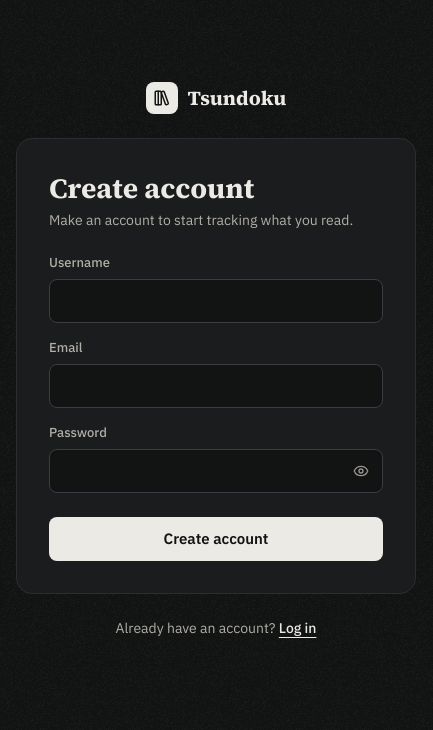
Test: RegisterPage › maps username conflict to the username field
The image size is (433, 730).
Type "reader" into the field labelled "Username".
click(216, 301); type("reader")  # box [49,279,383,323]
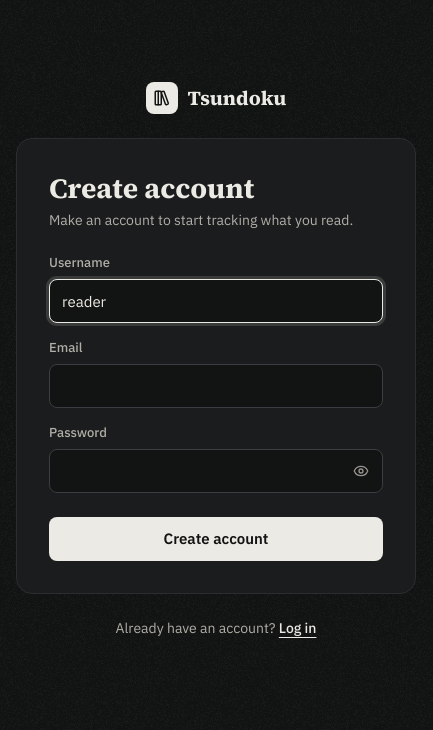
Type "reader@example.com" into the field labelled "Email".
click(216, 386); type("reader@example.com")  # box [49,364,383,408]
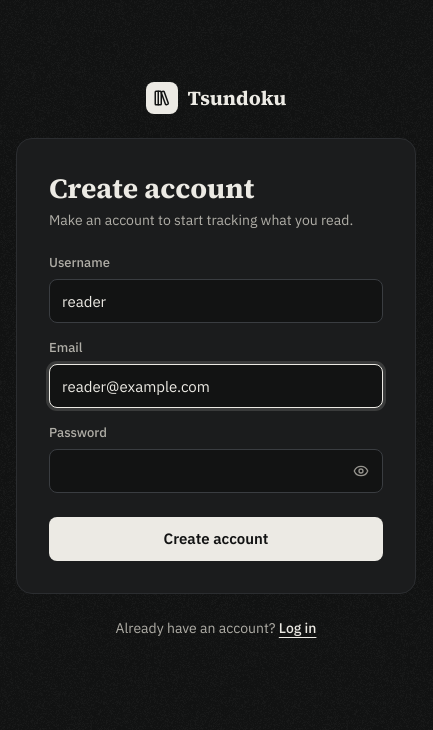
Type "Password123!" into the password field labelled "Password".
click(216, 471); type("Password123!")  # box [49,449,383,493]
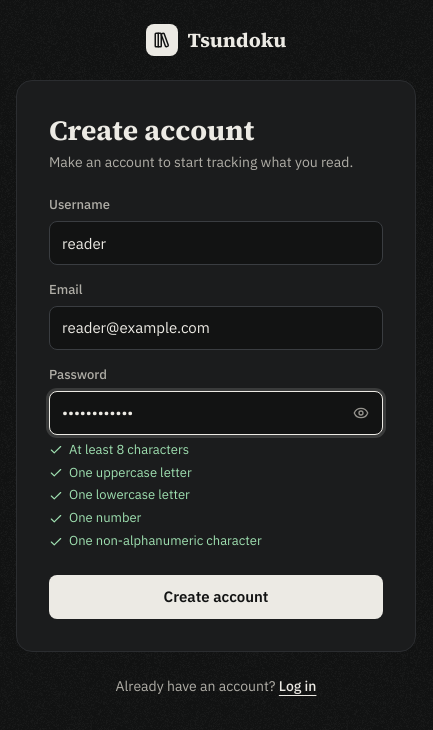
Click the button "Create account".
click(216, 597)  # box [49,575,383,619]
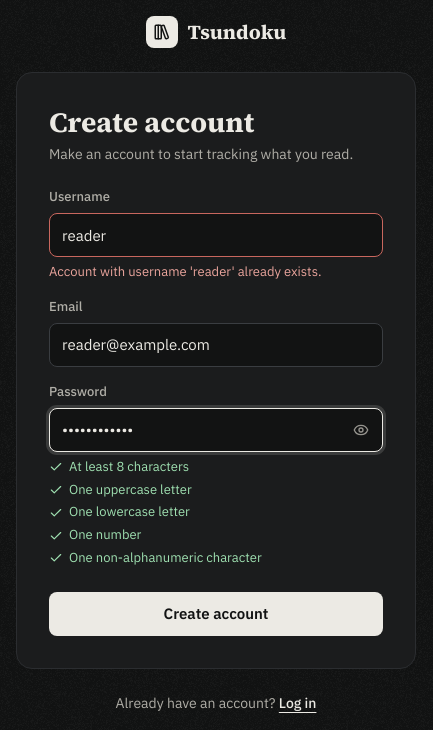
Check: the text "Account with username 'reader' already exists." is shown, box [49,263,322,280]
